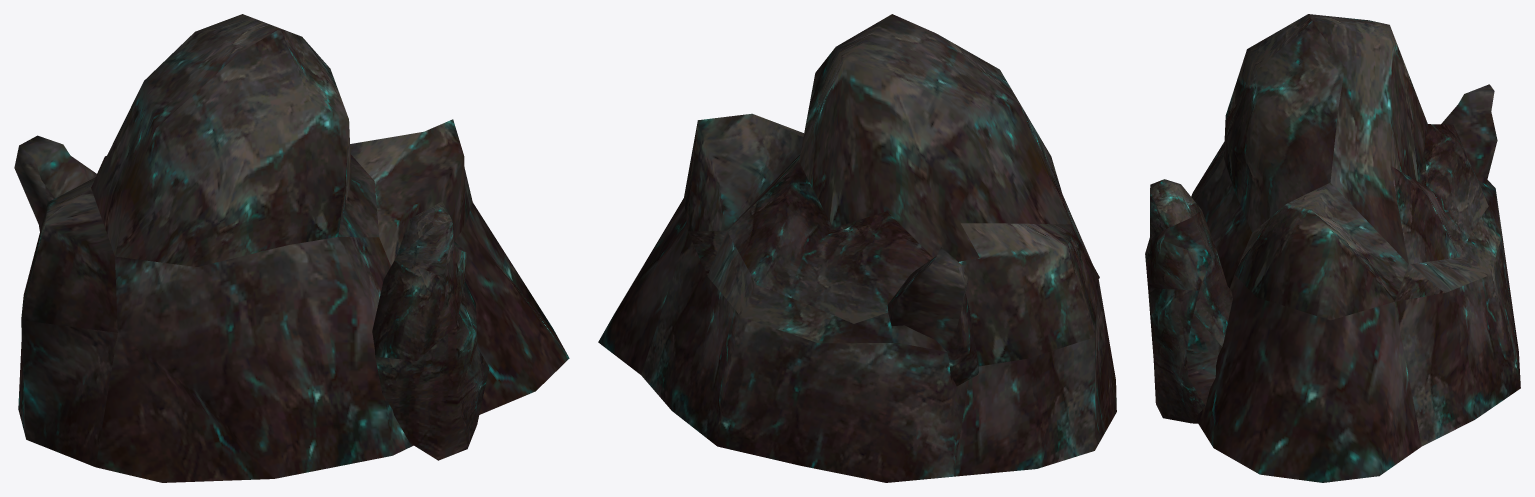
The model's file is S_Rock_Black081.FBX.
3 renders of one model, left to right at view 1: azimuth 30°, elevation 25°; view 2: azimuth 150°, elevation 25°; view 3: azimuth 270°, elevation 25°, orthographic. The views are drawn at different scales.
Parts seen in each view (by area): view 1: S_Rock_Black081; view 2: S_Rock_Black081; view 3: S_Rock_Black081.
Part boxes in pixels (left/top/right/bottom): S_Rock_Black081: left=14, top=14, right=569, bottom=482; S_Rock_Black081: left=598, top=14, right=1116, bottom=482; S_Rock_Black081: left=1145, top=14, right=1520, bottom=482.
Size of the model in its own units: 876 by 614 by 631.
